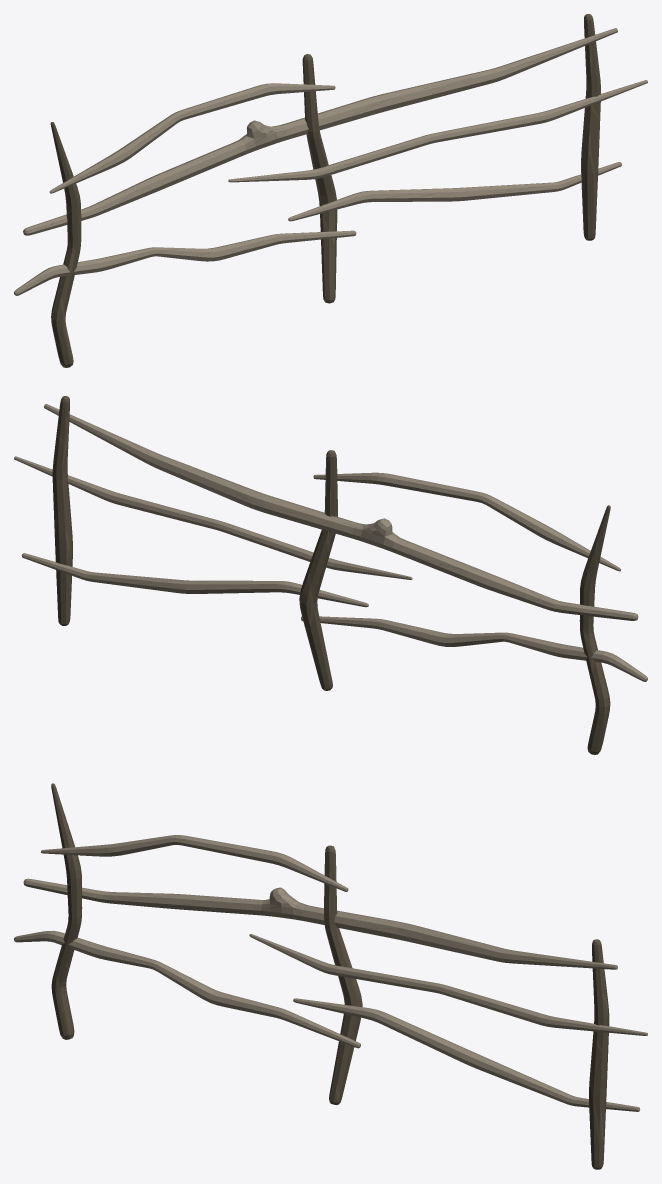
Rendered from valla completa 1.fbx.
3 renders of one model, top to bottom at view 1: azimuth 30°, elevation 25°; view 2: azimuth 150°, elevation 25°; view 3: azimuth 330°, elevation 25°, orthographic.
Parts seen in each view (by area): view 1: Vert.031; view 2: Vert.031; view 3: Vert.031.
Part boxes in pixels (<box>): Vert.031: <box>14,14,647,367</box>; Vert.031: <box>14,396,647,754</box>; Vert.031: <box>14,783,647,1169</box>.
Size of the model in its own units: 1451 by 550 by 90.13.
